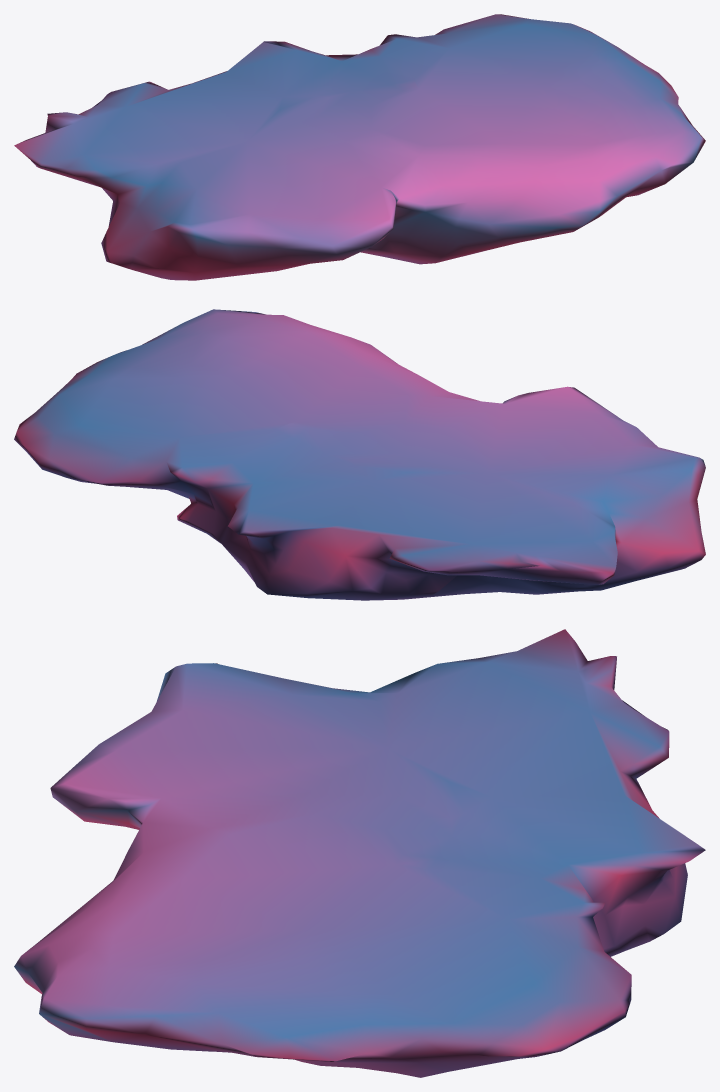
The model's file is Platform_Rock_04.fbx.
The picture shows the model from 3 angles, top to bottom: view 1: azimuth 30°, elevation 25°; view 2: azimuth 150°, elevation 25°; view 3: azimuth 270°, elevation 25°; orthographic projection. The views are drawn at different scales.
Visible parts, largest first — view 1: transform7; view 2: transform7; view 3: transform7.
Part boxes in pixels (x1,y1,x2,y2): transform7: [14, 14, 705, 280]; transform7: [14, 309, 705, 600]; transform7: [14, 629, 705, 1077].
Bounding box in the file's own units: 374 × 72.53 × 263.
